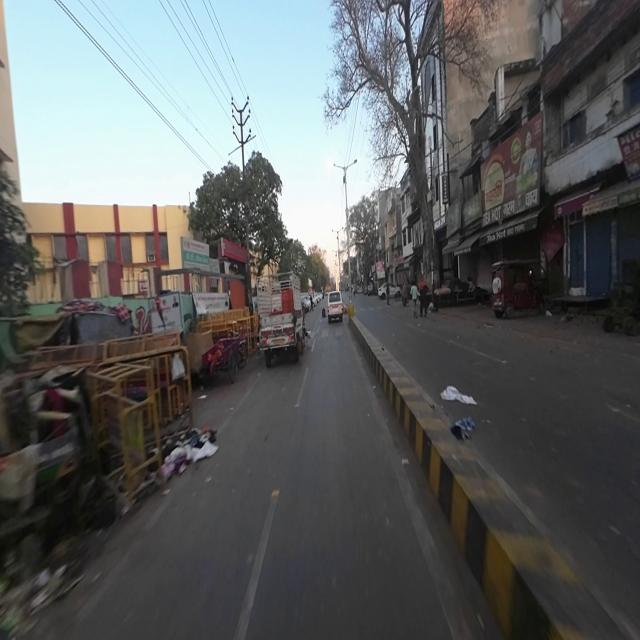Garbage: (1, 550, 74, 637), (160, 427, 217, 473)
